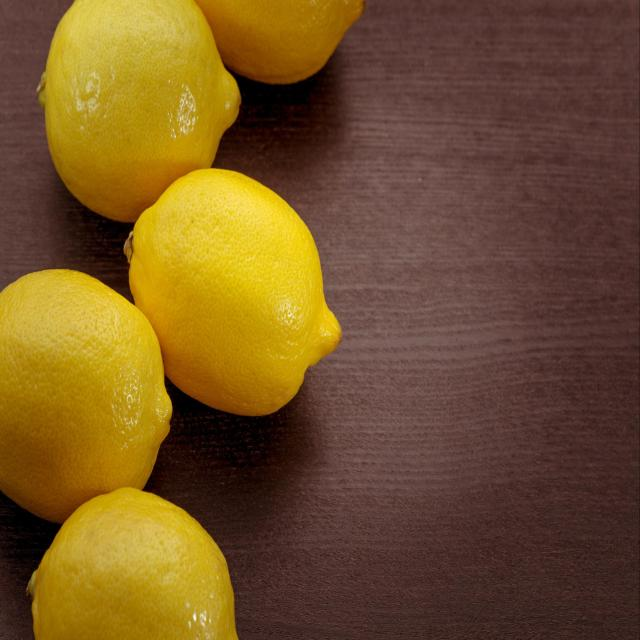lemon: (120, 164, 346, 428)
